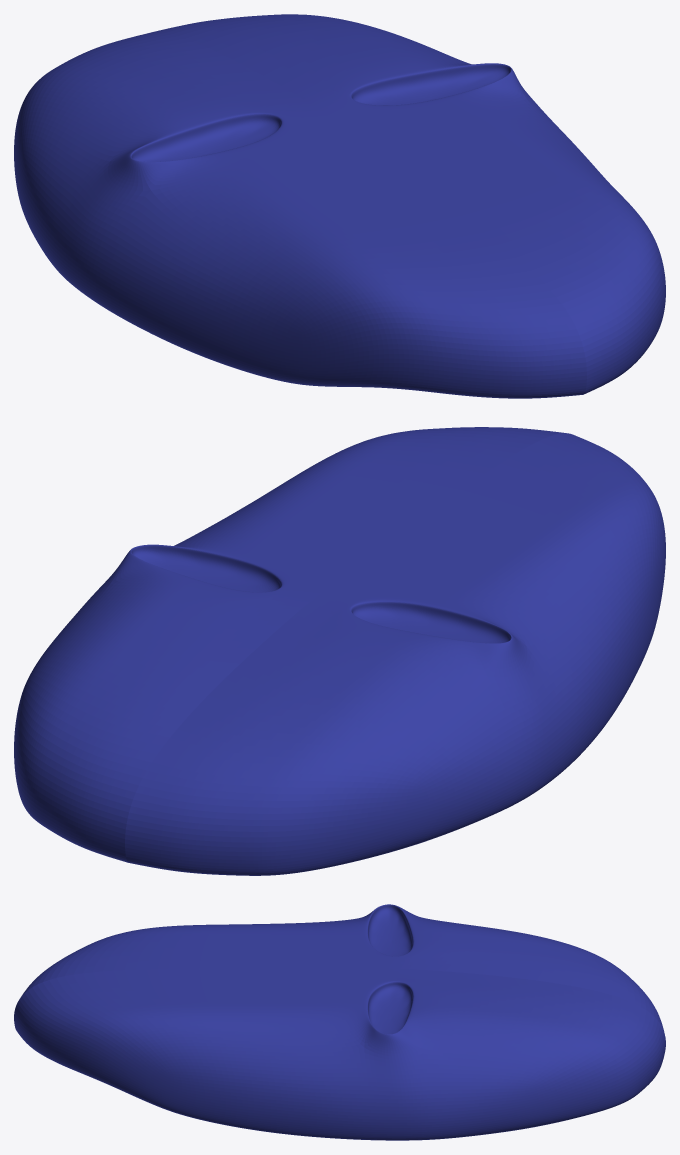
Rendered from Mask.Ground.fbx.
3 views of the same model, one above another, from view 1: azimuth 30°, elevation 25°; view 2: azimuth 150°, elevation 25°; view 3: azimuth 270°, elevation 25° (orthographic). The views are drawn at different scales.
Visible parts, largest first — view 1: Mask; view 2: Mask; view 3: Mask.
Part boxes in pixels (x1,y1,x2,y2): Mask: [14, 14, 665, 398]; Mask: [14, 427, 665, 875]; Mask: [14, 904, 665, 1140].
Bounding box in the file's own units: 324 × 86.8 × 550.
